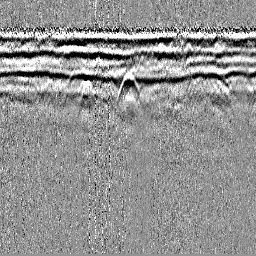cavity: (114, 70, 142, 102)
